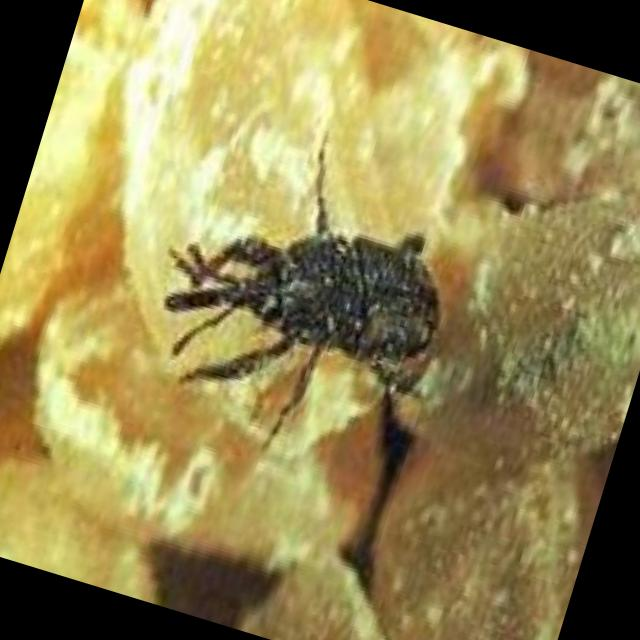rice-bug: (146, 121, 476, 466)
